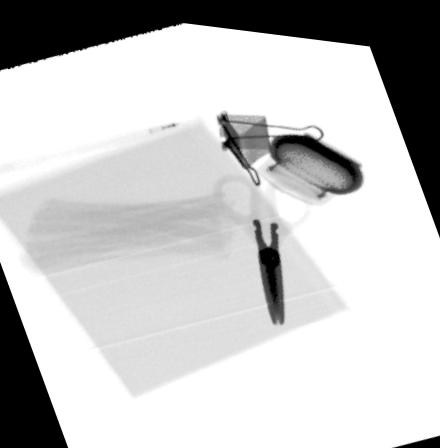Scissors: (205, 167, 315, 320)
